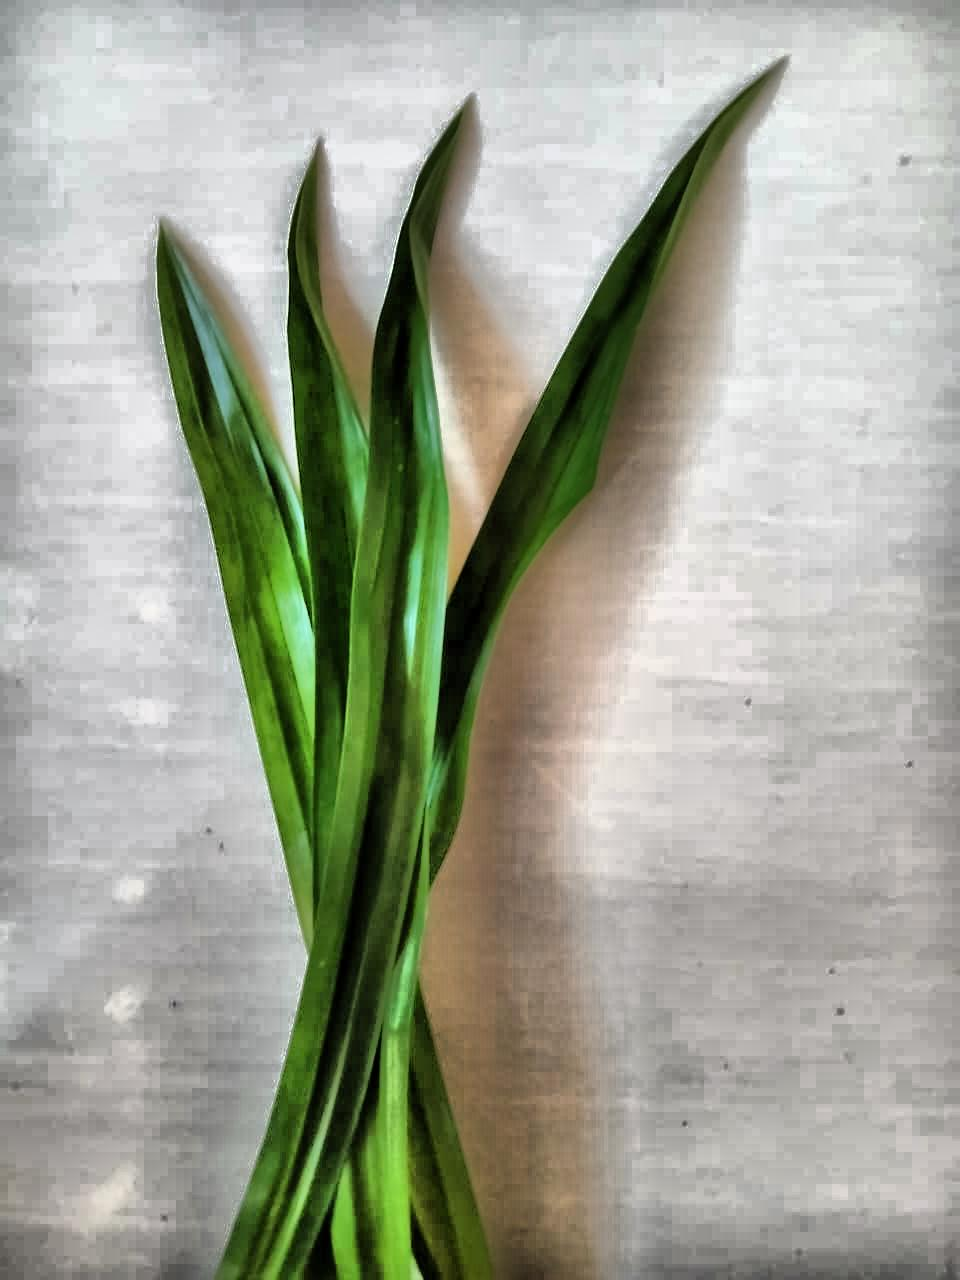daun pandan: (157, 73, 769, 1279)
